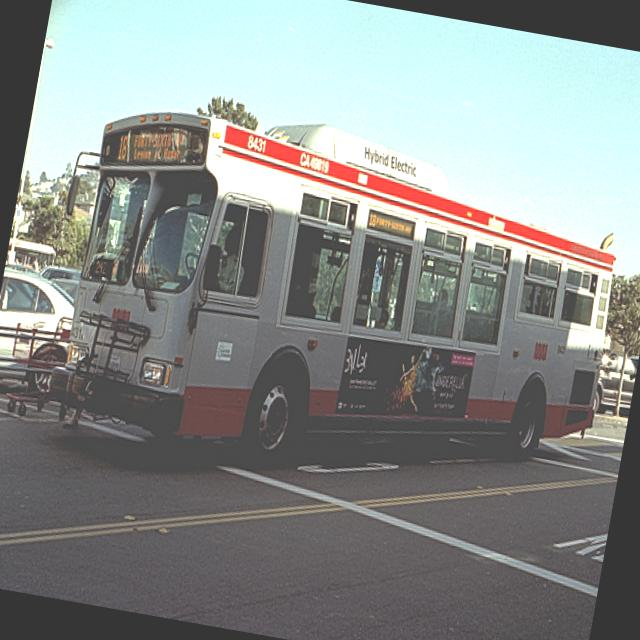Vehicle: (51, 100, 640, 516), (0, 268, 78, 395), (591, 346, 639, 418), (37, 262, 81, 282), (626, 353, 639, 377)
